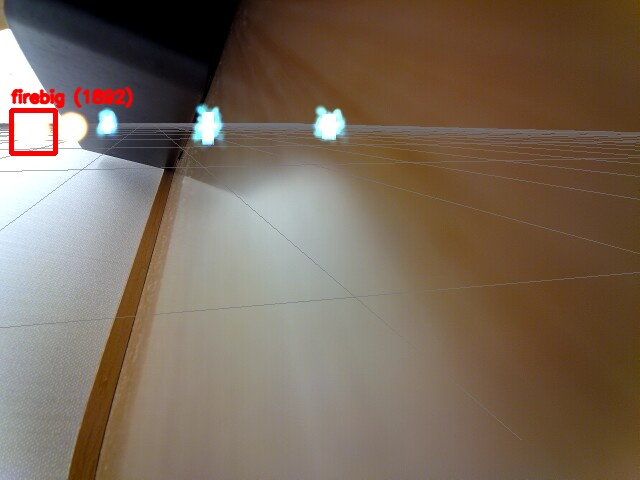firebig: (11, 110, 55, 153)
